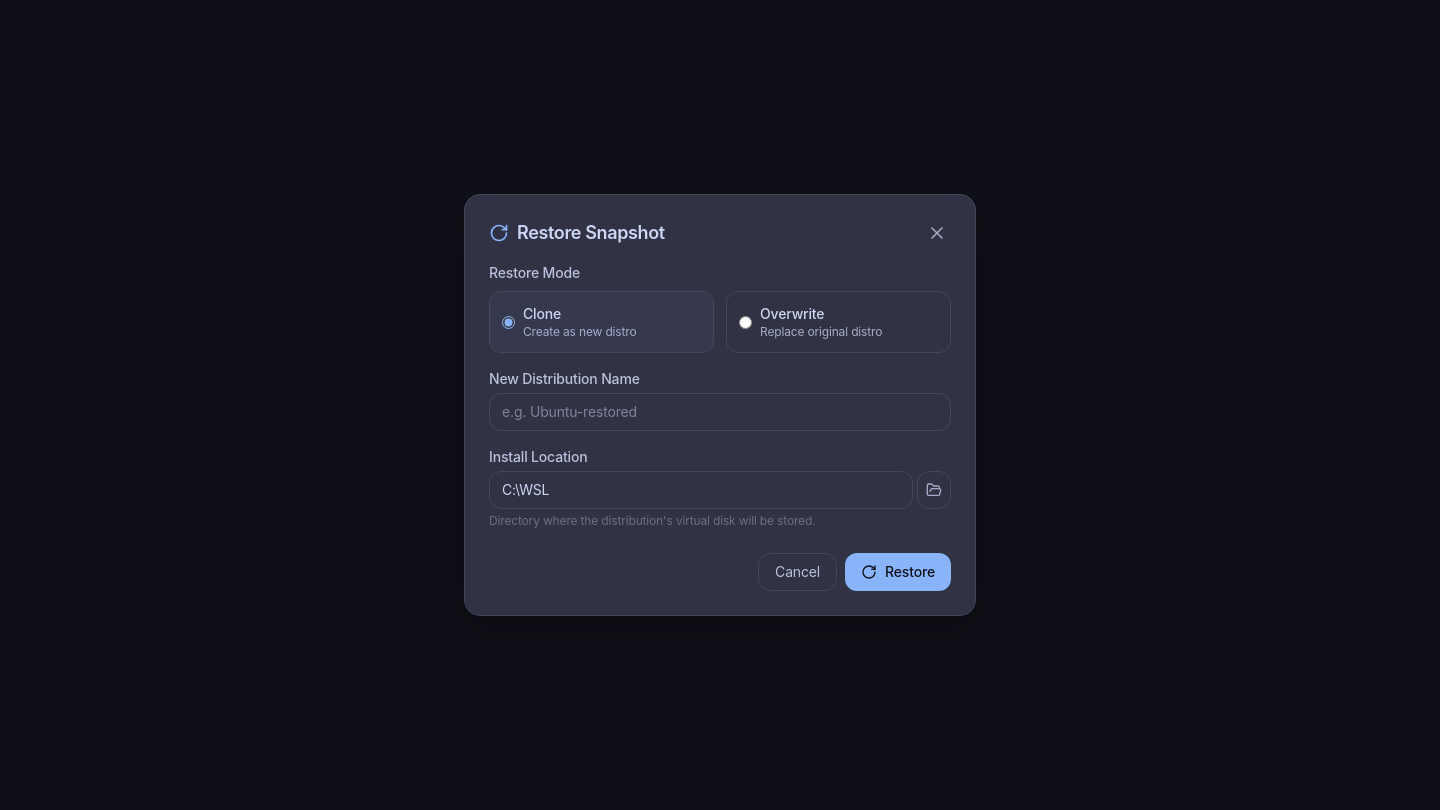
RestoreSnapshotDialog › switches back to clone mode from overwrite
# Switch to overwrite
Click the radio button with test id "restore-mode-overwrite": (746, 322) left=739, top=316, right=752, bottom=328
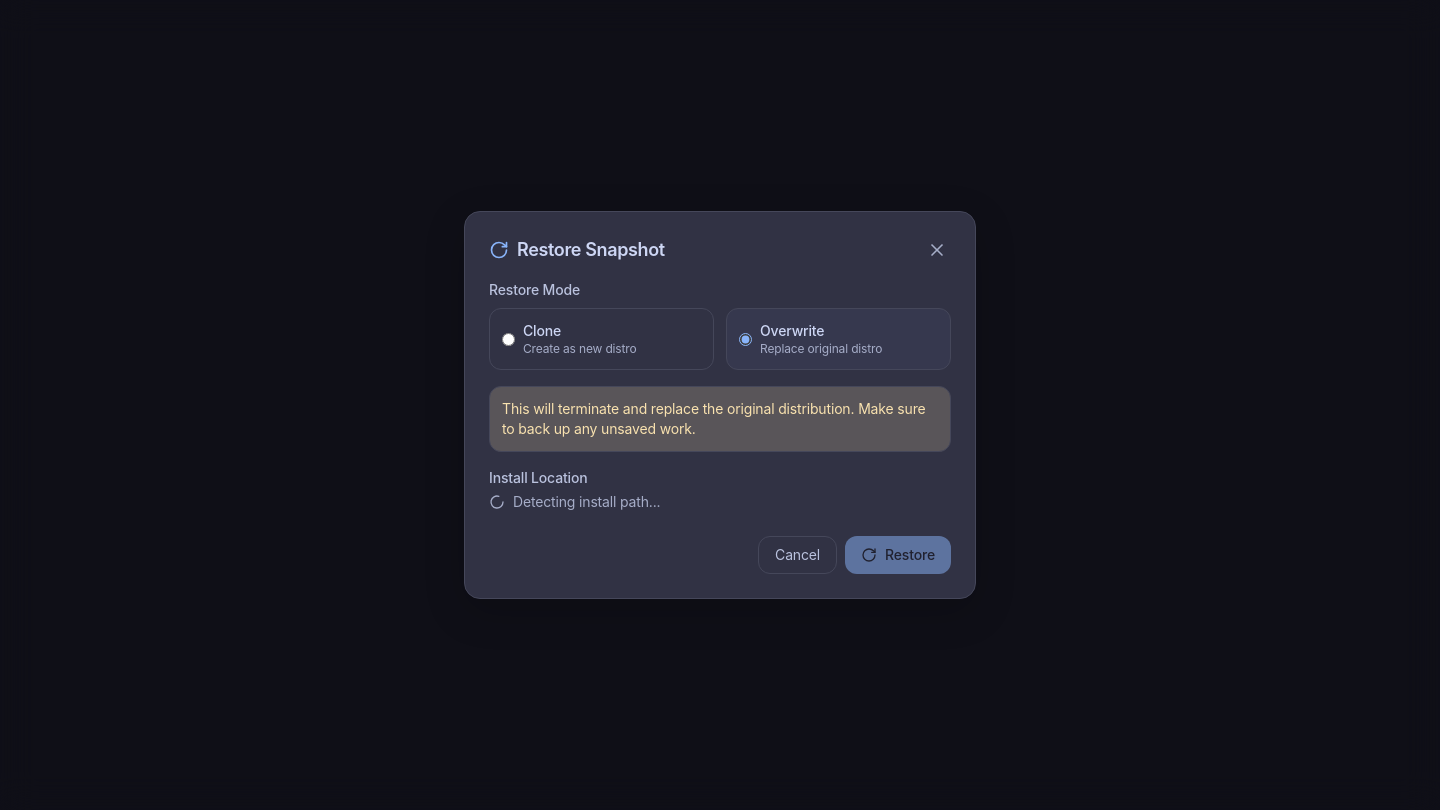
expect the field with placeholder "e.g. Ubuntu-restored" is not shown: met
# Switch back to clone
Click the radio button with test id "restore-mode-clone": (508, 339) left=502, top=332, right=515, bottom=346
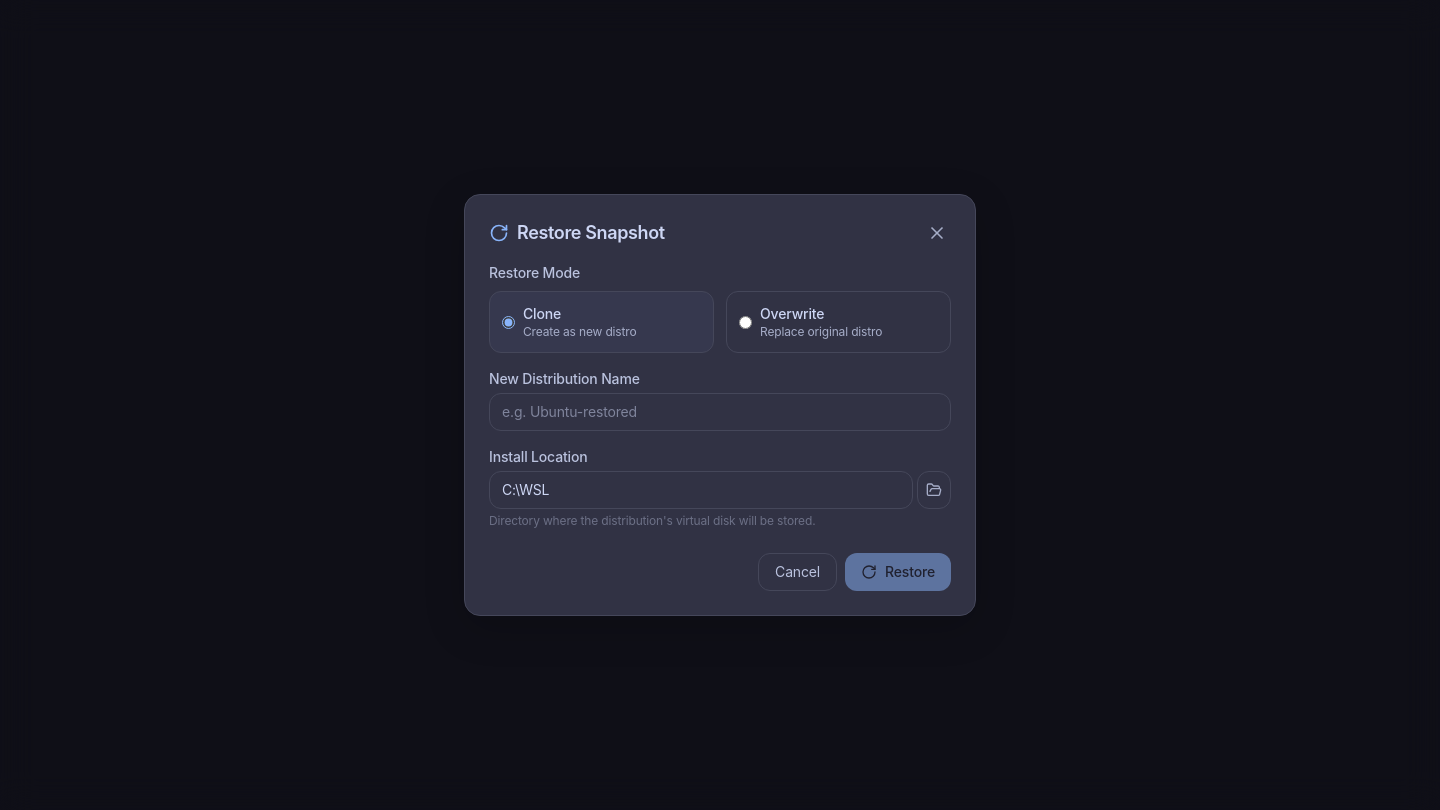
expect the field with placeholder "e.g. Ubuntu-restored" is shown: met, box left=489, top=393, right=951, bottom=431
